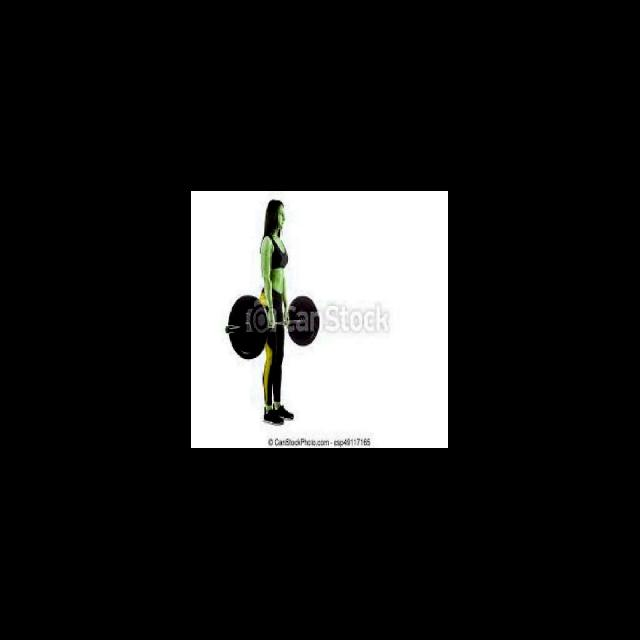barbell: (221, 292, 270, 359)
